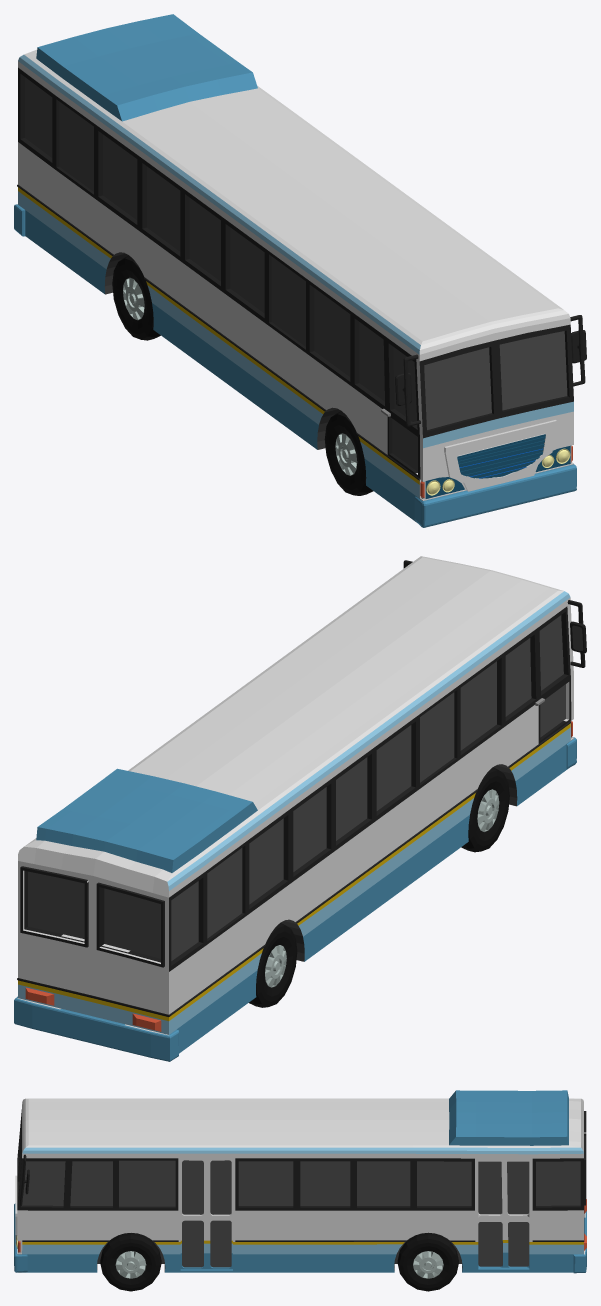
The model's file is Chd roadways.fbx.
3 renders of one model, top to bottom at view 1: azimuth 30°, elevation 25°; view 2: azimuth 150°, elevation 25°; view 3: azimuth 270°, elevation 25°, orthographic. The views are drawn at different scales.
Visible parts, largest first — view 1: Body, Backright Wheel, Frontright Wheel; view 2: Body, Frontright Wheel, Backright Wheel; view 3: Body, Backleft Wheel, Frontleft wheel.
Part boxes in pixels (left/top/right/bottom): Body: left=14, top=14, right=586, bottom=527; Backright Wheel: left=112, top=255, right=160, bottom=340; Frontright Wheel: left=324, top=411, right=373, bottom=495; Body: left=14, top=556, right=586, bottom=1061; Frontright Wheel: left=461, top=767, right=509, bottom=852; Backright Wheel: left=249, top=923, right=297, bottom=1007; Body: left=14, top=1090, right=586, bottom=1273; Backleft Wheel: left=397, top=1232, right=458, bottom=1291; Frontleft wheel: left=100, top=1233, right=161, bottom=1291.
Bounding box in the file's own units: 248 × 274 × 925.
Materials: 5 (2 with a texture image).
